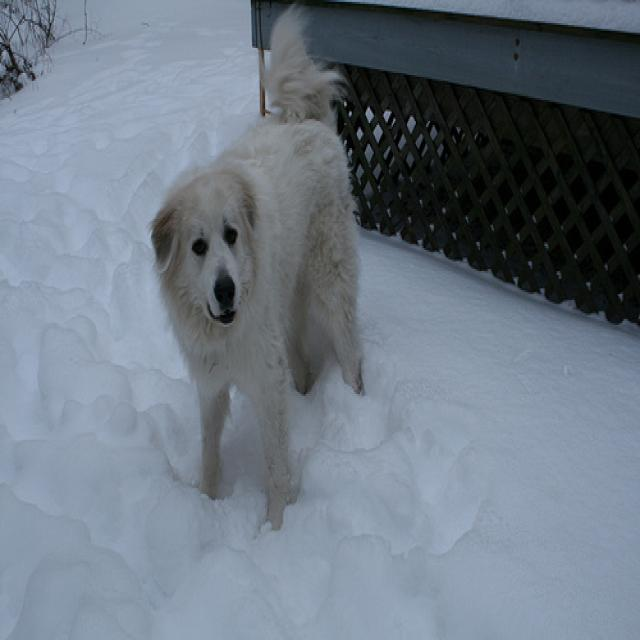dog-great_pyrenees: (140, 2, 371, 542)
